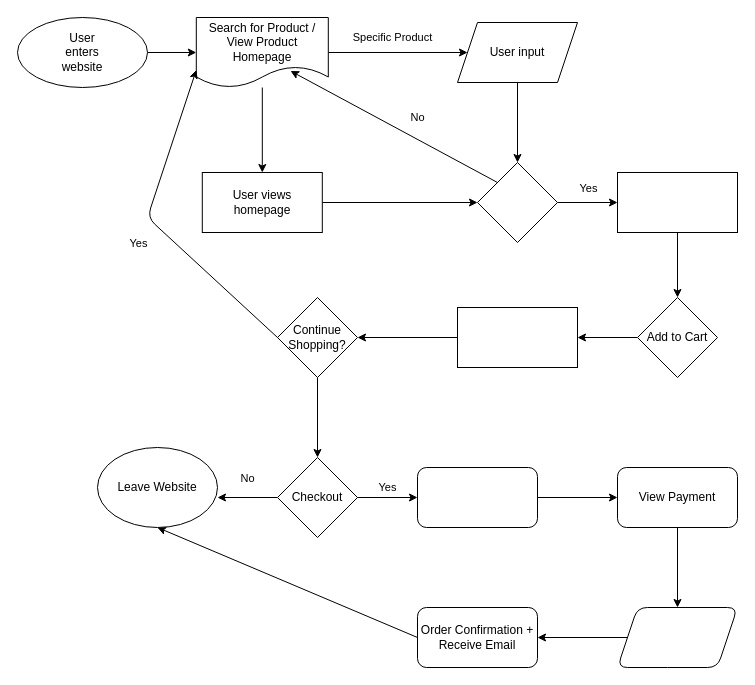
This 755x685 diagram has some shape labels left out. Each missing label, with the centre of its shape:
"Added to Cart" belongs at point (517, 337).
"Payment Info" belongs at point (677, 637).
"View Cart" belongs at point (477, 497).
"View Product Webpage" belongs at point (677, 202).
"View Specific Product" belongs at point (517, 202).
